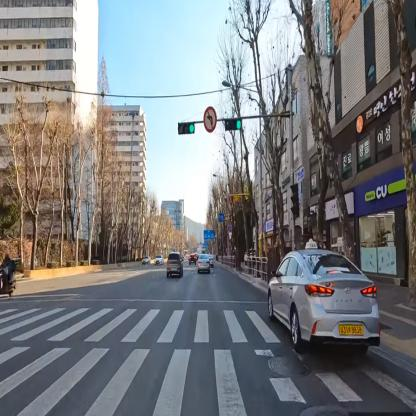Green: (225, 119, 241, 133), (180, 121, 195, 135)
